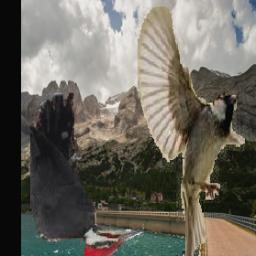Sparrow: (138, 1, 246, 256)
Woodpecker: (30, 94, 144, 256)
